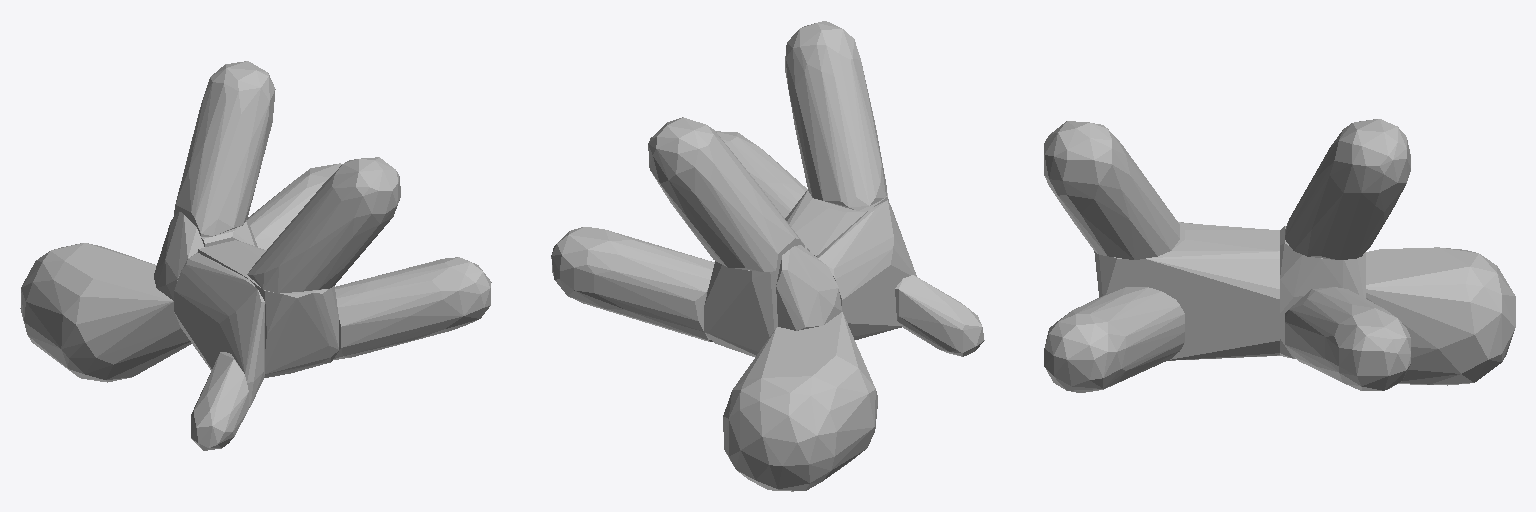
URDF robot description (root):
<robot name="root">
  <link name="link_thingiverse~dog_sculpture_3746999_convex_piece_0">
    <inertial>
      <origin rpy="0 0 0" xyz="0 0 0"/>
      <mass value="1.22E-01"/>
      <inertia ixx="7.17E-04" ixy="-1.04E-04" ixz="8.27E-05" iyy="2.95E-04" iyz="-3.34E-04" izz="4.93E-04"/>
    </inertial>
    <visual>
      <origin rpy="0 0 0" xyz="0 0 0"/>
      <geometry>
        <mesh filename="thingiverse~dog_sculpture_3746999_convex_piece_0.obj" scale="1.0000E+00 1.0000E+00 1.0000E+00"/>
      </geometry>
      <material name="">
        <color rgba="7.50E-01 7.50E-01 7.50E-01 1"/>
      </material>
    </visual>
    <collision>
      <origin rpy="0 0 0" xyz="0 0 0"/>
      <geometry>
        <mesh filename="thingiverse~dog_sculpture_3746999_convex_piece_0.obj" scale="1.0000E+00 1.0000E+00 1.0000E+00"/>
      </geometry>
    </collision>
  </link>
  <link name="link_thingiverse~dog_sculpture_3746999_convex_piece_1">
    <inertial>
      <origin rpy="0 0 0" xyz="0 0 0"/>
      <mass value="1.29E-01"/>
      <inertia ixx="4.81E-04" ixy="-3.56E-04" ixz="1.20E-05" iyy="3.01E-04" iyz="-8.96E-06" izz="7.64E-04"/>
    </inertial>
    <visual>
      <origin rpy="0 0 0" xyz="0 0 0"/>
      <geometry>
        <mesh filename="thingiverse~dog_sculpture_3746999_convex_piece_1.obj" scale="1.0000E+00 1.0000E+00 1.0000E+00"/>
      </geometry>
      <material name="">
        <color rgba="7.50E-01 7.50E-01 7.50E-01 1"/>
      </material>
    </visual>
    <collision>
      <origin rpy="0 0 0" xyz="0 0 0"/>
      <geometry>
        <mesh filename="thingiverse~dog_sculpture_3746999_convex_piece_1.obj" scale="1.0000E+00 1.0000E+00 1.0000E+00"/>
      </geometry>
    </collision>
  </link>
  <joint name="link_thingiverse~dog_sculpture_3746999_convex_piece_1_joint" type="fixed">
    <origin rpy="0 0 0" xyz="0 0 0"/>
    <parent link="link_thingiverse~dog_sculpture_3746999_convex_piece_0"/>
    <child link="link_thingiverse~dog_sculpture_3746999_convex_piece_1"/>
  </joint>
  <link name="link_thingiverse~dog_sculpture_3746999_convex_piece_2">
    <inertial>
      <origin rpy="0 0 0" xyz="0 0 0"/>
      <mass value="3.38E-01"/>
      <inertia ixx="1.05E-03" ixy="-5.20E-04" ixz="2.98E-04" iyy="6.97E-04" iyz="-3.95E-04" izz="1.22E-03"/>
    </inertial>
    <visual>
      <origin rpy="0 0 0" xyz="0 0 0"/>
      <geometry>
        <mesh filename="thingiverse~dog_sculpture_3746999_convex_piece_2.obj" scale="1.0000E+00 1.0000E+00 1.0000E+00"/>
      </geometry>
      <material name="">
        <color rgba="7.50E-01 7.50E-01 7.50E-01 1"/>
      </material>
    </visual>
    <collision>
      <origin rpy="0 0 0" xyz="0 0 0"/>
      <geometry>
        <mesh filename="thingiverse~dog_sculpture_3746999_convex_piece_2.obj" scale="1.0000E+00 1.0000E+00 1.0000E+00"/>
      </geometry>
    </collision>
  </link>
  <joint name="link_thingiverse~dog_sculpture_3746999_convex_piece_2_joint" type="fixed">
    <origin rpy="0 0 0" xyz="0 0 0"/>
    <parent link="link_thingiverse~dog_sculpture_3746999_convex_piece_1"/>
    <child link="link_thingiverse~dog_sculpture_3746999_convex_piece_2"/>
  </joint>
  <link name="link_thingiverse~dog_sculpture_3746999_convex_piece_3">
    <inertial>
      <origin rpy="0 0 0" xyz="0 0 0"/>
      <mass value="1.74E-02"/>
      <inertia ixx="4.71E-06" ixy="-3.39E-06" ixz="-1.62E-06" iyy="6.66E-06" iyz="1.31E-06" izz="8.35E-06"/>
    </inertial>
    <visual>
      <origin rpy="0 0 0" xyz="0 0 0"/>
      <geometry>
        <mesh filename="thingiverse~dog_sculpture_3746999_convex_piece_3.obj" scale="1.0000E+00 1.0000E+00 1.0000E+00"/>
      </geometry>
      <material name="">
        <color rgba="7.50E-01 7.50E-01 7.50E-01 1"/>
      </material>
    </visual>
    <collision>
      <origin rpy="0 0 0" xyz="0 0 0"/>
      <geometry>
        <mesh filename="thingiverse~dog_sculpture_3746999_convex_piece_3.obj" scale="1.0000E+00 1.0000E+00 1.0000E+00"/>
      </geometry>
    </collision>
  </link>
  <joint name="link_thingiverse~dog_sculpture_3746999_convex_piece_3_joint" type="fixed">
    <origin rpy="0 0 0" xyz="0 0 0"/>
    <parent link="link_thingiverse~dog_sculpture_3746999_convex_piece_2"/>
    <child link="link_thingiverse~dog_sculpture_3746999_convex_piece_3"/>
  </joint>
  <link name="link_thingiverse~dog_sculpture_3746999_convex_piece_4">
    <inertial>
      <origin rpy="0 0 0" xyz="0 0 0"/>
      <mass value="1.21E-01"/>
      <inertia ixx="3.56E-04" ixy="4.80E-05" ixz="8.60E-05" iyy="3.02E-04" iyz="1.47E-04" izz="1.27E-04"/>
    </inertial>
    <visual>
      <origin rpy="0 0 0" xyz="0 0 0"/>
      <geometry>
        <mesh filename="thingiverse~dog_sculpture_3746999_convex_piece_4.obj" scale="1.0000E+00 1.0000E+00 1.0000E+00"/>
      </geometry>
      <material name="">
        <color rgba="7.50E-01 7.50E-01 7.50E-01 1"/>
      </material>
    </visual>
    <collision>
      <origin rpy="0 0 0" xyz="0 0 0"/>
      <geometry>
        <mesh filename="thingiverse~dog_sculpture_3746999_convex_piece_4.obj" scale="1.0000E+00 1.0000E+00 1.0000E+00"/>
      </geometry>
    </collision>
  </link>
  <joint name="link_thingiverse~dog_sculpture_3746999_convex_piece_4_joint" type="fixed">
    <origin rpy="0 0 0" xyz="0 0 0"/>
    <parent link="link_thingiverse~dog_sculpture_3746999_convex_piece_3"/>
    <child link="link_thingiverse~dog_sculpture_3746999_convex_piece_4"/>
  </joint>
  <link name="link_thingiverse~dog_sculpture_3746999_convex_piece_5">
    <inertial>
      <origin rpy="0 0 0" xyz="0 0 0"/>
      <mass value="2.43E-02"/>
      <inertia ixx="9.28E-05" ixy="4.90E-05" ixz="2.49E-05" iyy="5.28E-05" iyz="3.68E-05" izz="1.07E-04"/>
    </inertial>
    <visual>
      <origin rpy="0 0 0" xyz="0 0 0"/>
      <geometry>
        <mesh filename="thingiverse~dog_sculpture_3746999_convex_piece_5.obj" scale="1.0000E+00 1.0000E+00 1.0000E+00"/>
      </geometry>
      <material name="">
        <color rgba="7.50E-01 7.50E-01 7.50E-01 1"/>
      </material>
    </visual>
    <collision>
      <origin rpy="0 0 0" xyz="0 0 0"/>
      <geometry>
        <mesh filename="thingiverse~dog_sculpture_3746999_convex_piece_5.obj" scale="1.0000E+00 1.0000E+00 1.0000E+00"/>
      </geometry>
    </collision>
  </link>
  <joint name="link_thingiverse~dog_sculpture_3746999_convex_piece_5_joint" type="fixed">
    <origin rpy="0 0 0" xyz="0 0 0"/>
    <parent link="link_thingiverse~dog_sculpture_3746999_convex_piece_4"/>
    <child link="link_thingiverse~dog_sculpture_3746999_convex_piece_5"/>
  </joint>
  <link name="link_thingiverse~dog_sculpture_3746999_convex_piece_6">
    <inertial>
      <origin rpy="0 0 0" xyz="0 0 0"/>
      <mass value="9.80E-02"/>
      <inertia ixx="4.11E-05" ixy="3.94E-06" ixz="-2.44E-07" iyy="2.07E-05" iyz="-6.44E-07" izz="3.42E-05"/>
    </inertial>
    <visual>
      <origin rpy="0 0 0" xyz="0 0 0"/>
      <geometry>
        <mesh filename="thingiverse~dog_sculpture_3746999_convex_piece_6.obj" scale="1.0000E+00 1.0000E+00 1.0000E+00"/>
      </geometry>
      <material name="">
        <color rgba="7.50E-01 7.50E-01 7.50E-01 1"/>
      </material>
    </visual>
    <collision>
      <origin rpy="0 0 0" xyz="0 0 0"/>
      <geometry>
        <mesh filename="thingiverse~dog_sculpture_3746999_convex_piece_6.obj" scale="1.0000E+00 1.0000E+00 1.0000E+00"/>
      </geometry>
    </collision>
  </link>
  <joint name="link_thingiverse~dog_sculpture_3746999_convex_piece_6_joint" type="fixed">
    <origin rpy="0 0 0" xyz="0 0 0"/>
    <parent link="link_thingiverse~dog_sculpture_3746999_convex_piece_5"/>
    <child link="link_thingiverse~dog_sculpture_3746999_convex_piece_6"/>
  </joint>
  <link name="link_thingiverse~dog_sculpture_3746999_convex_piece_7">
    <inertial>
      <origin rpy="0 0 0" xyz="0 0 0"/>
      <mass value="1.24E-01"/>
      <inertia ixx="1.01E-04" ixy="1.55E-04" ixz="1.58E-05" iyy="3.00E-04" iyz="7.54E-06" izz="3.83E-04"/>
    </inertial>
    <visual>
      <origin rpy="0 0 0" xyz="0 0 0"/>
      <geometry>
        <mesh filename="thingiverse~dog_sculpture_3746999_convex_piece_7.obj" scale="1.0000E+00 1.0000E+00 1.0000E+00"/>
      </geometry>
      <material name="">
        <color rgba="7.50E-01 7.50E-01 7.50E-01 1"/>
      </material>
    </visual>
    <collision>
      <origin rpy="0 0 0" xyz="0 0 0"/>
      <geometry>
        <mesh filename="thingiverse~dog_sculpture_3746999_convex_piece_7.obj" scale="1.0000E+00 1.0000E+00 1.0000E+00"/>
      </geometry>
    </collision>
  </link>
  <joint name="link_thingiverse~dog_sculpture_3746999_convex_piece_7_joint" type="fixed">
    <origin rpy="0 0 0" xyz="0 0 0"/>
    <parent link="link_thingiverse~dog_sculpture_3746999_convex_piece_6"/>
    <child link="link_thingiverse~dog_sculpture_3746999_convex_piece_7"/>
  </joint>
  <link name="link_thingiverse~dog_sculpture_3746999_convex_piece_8">
    <inertial>
      <origin rpy="0 0 0" xyz="0 0 0"/>
      <mass value="6.58E-02"/>
      <inertia ixx="8.17E-05" ixy="3.77E-05" ixz="9.38E-06" iyy="3.78E-05" iyz="1.45E-05" izz="9.71E-05"/>
    </inertial>
    <visual>
      <origin rpy="0 0 0" xyz="0 0 0"/>
      <geometry>
        <mesh filename="thingiverse~dog_sculpture_3746999_convex_piece_8.obj" scale="1.0000E+00 1.0000E+00 1.0000E+00"/>
      </geometry>
      <material name="">
        <color rgba="7.50E-01 7.50E-01 7.50E-01 1"/>
      </material>
    </visual>
    <collision>
      <origin rpy="0 0 0" xyz="0 0 0"/>
      <geometry>
        <mesh filename="thingiverse~dog_sculpture_3746999_convex_piece_8.obj" scale="1.0000E+00 1.0000E+00 1.0000E+00"/>
      </geometry>
    </collision>
  </link>
  <joint name="link_thingiverse~dog_sculpture_3746999_convex_piece_8_joint" type="fixed">
    <origin rpy="0 0 0" xyz="0 0 0"/>
    <parent link="link_thingiverse~dog_sculpture_3746999_convex_piece_7"/>
    <child link="link_thingiverse~dog_sculpture_3746999_convex_piece_8"/>
  </joint>
  <link name="link_thingiverse~dog_sculpture_3746999_convex_piece_9">
    <inertial>
      <origin rpy="0 0 0" xyz="0 0 0"/>
      <mass value="2.19E-01"/>
      <inertia ixx="2.95E-04" ixy="-3.88E-06" ixz="3.79E-07" iyy="4.81E-05" iyz="6.96E-06" izz="2.79E-04"/>
    </inertial>
    <visual>
      <origin rpy="0 0 0" xyz="0 0 0"/>
      <geometry>
        <mesh filename="thingiverse~dog_sculpture_3746999_convex_piece_9.obj" scale="1.0000E+00 1.0000E+00 1.0000E+00"/>
      </geometry>
      <material name="">
        <color rgba="7.50E-01 7.50E-01 7.50E-01 1"/>
      </material>
    </visual>
    <collision>
      <origin rpy="0 0 0" xyz="0 0 0"/>
      <geometry>
        <mesh filename="thingiverse~dog_sculpture_3746999_convex_piece_9.obj" scale="1.0000E+00 1.0000E+00 1.0000E+00"/>
      </geometry>
    </collision>
  </link>
  <joint name="link_thingiverse~dog_sculpture_3746999_convex_piece_9_joint" type="fixed">
    <origin rpy="0 0 0" xyz="0 0 0"/>
    <parent link="link_thingiverse~dog_sculpture_3746999_convex_piece_8"/>
    <child link="link_thingiverse~dog_sculpture_3746999_convex_piece_9"/>
  </joint>
</robot>

--- What the picture shows (computed from the rendered views, not written in the file) ---
Views: 3 orthographic renders of the robot side by side, from view 1: azimuth 30°, elevation 25°; view 2: azimuth 150°, elevation 25°; view 3: azimuth 270°, elevation 25°.
Model root with 10 links and 9 joints (9 fixed), rooted at link_thingiverse~dog_sculpture_3746999_convex_piece_0, posed every joint at zero.
Links seen in each view (by area): view 1: link_thingiverse~dog_sculpture_3746999_convex_piece_2, link_thingiverse~dog_sculpture_3746999_convex_piece_4, link_thingiverse~dog_sculpture_3746999_convex_piece_0, link_thingiverse~dog_sculpture_3746999_convex_piece_1, link_thingiverse~dog_sculpture_3746999_convex_piece_8, link_thingiverse~dog_sculpture_3746999_convex_piece_9, link_thingiverse~dog_sculpture_3746999_convex_piece_5, link_thingiverse~dog_sculpture_3746999_convex_piece_7, link_thingiverse~dog_sculpture_3746999_convex_piece_3, link_thingiverse~dog_sculpture_3746999_convex_piece_6; view 2: link_thingiverse~dog_sculpture_3746999_convex_piece_2, link_thingiverse~dog_sculpture_3746999_convex_piece_0, link_thingiverse~dog_sculpture_3746999_convex_piece_4, link_thingiverse~dog_sculpture_3746999_convex_piece_7, link_thingiverse~dog_sculpture_3746999_convex_piece_8, link_thingiverse~dog_sculpture_3746999_convex_piece_6, link_thingiverse~dog_sculpture_3746999_convex_piece_5, link_thingiverse~dog_sculpture_3746999_convex_piece_3, link_thingiverse~dog_sculpture_3746999_convex_piece_9, link_thingiverse~dog_sculpture_3746999_convex_piece_1; view 3: link_thingiverse~dog_sculpture_3746999_convex_piece_9, link_thingiverse~dog_sculpture_3746999_convex_piece_2, link_thingiverse~dog_sculpture_3746999_convex_piece_0, link_thingiverse~dog_sculpture_3746999_convex_piece_4, link_thingiverse~dog_sculpture_3746999_convex_piece_1, link_thingiverse~dog_sculpture_3746999_convex_piece_7, link_thingiverse~dog_sculpture_3746999_convex_piece_6.
Boxes of the visible links, <box> form: link_thingiverse~dog_sculpture_3746999_convex_piece_2: <box>20,243,191,382</box>; link_thingiverse~dog_sculpture_3746999_convex_piece_4: <box>174,61,275,236</box>; link_thingiverse~dog_sculpture_3746999_convex_piece_0: <box>247,157,400,293</box>; link_thingiverse~dog_sculpture_3746999_convex_piece_1: <box>333,257,491,359</box>; link_thingiverse~dog_sculpture_3746999_convex_piece_8: <box>174,253,264,407</box>; link_thingiverse~dog_sculpture_3746999_convex_piece_9: <box>198,240,338,377</box>; link_thingiverse~dog_sculpture_3746999_convex_piece_5: <box>191,352,248,450</box>; link_thingiverse~dog_sculpture_3746999_convex_piece_7: <box>247,163,341,249</box>; link_thingiverse~dog_sculpture_3746999_convex_piece_3: <box>154,211,204,300</box>; link_thingiverse~dog_sculpture_3746999_convex_piece_6: <box>173,217,257,246</box>; link_thingiverse~dog_sculpture_3746999_convex_piece_2: <box>723,312,877,491</box>; link_thingiverse~dog_sculpture_3746999_convex_piece_0: <box>785,21,886,210</box>; link_thingiverse~dog_sculpture_3746999_convex_piece_4: <box>648,117,804,271</box>; link_thingiverse~dog_sculpture_3746999_convex_piece_7: <box>551,227,714,341</box>; link_thingiverse~dog_sculpture_3746999_convex_piece_8: <box>818,200,916,339</box>; link_thingiverse~dog_sculpture_3746999_convex_piece_6: <box>704,248,809,356</box>; link_thingiverse~dog_sculpture_3746999_convex_piece_5: <box>895,275,984,356</box>; link_thingiverse~dog_sculpture_3746999_convex_piece_3: <box>776,245,841,330</box>; link_thingiverse~dog_sculpture_3746999_convex_piece_9: <box>785,190,888,257</box>; link_thingiverse~dog_sculpture_3746999_convex_piece_1: <box>716,131,807,217</box>; link_thingiverse~dog_sculpture_3746999_convex_piece_9: <box>1094,223,1279,360</box>; link_thingiverse~dog_sculpture_3746999_convex_piece_2: <box>1366,247,1515,385</box>; link_thingiverse~dog_sculpture_3746999_convex_piece_0: <box>1044,121,1179,259</box>; link_thingiverse~dog_sculpture_3746999_convex_piece_4: <box>1285,119,1410,259</box>; link_thingiverse~dog_sculpture_3746999_convex_piece_1: <box>1044,287,1184,392</box>; link_thingiverse~dog_sculpture_3746999_convex_piece_7: <box>1285,287,1410,390</box>; link_thingiverse~dog_sculpture_3746999_convex_piece_6: <box>1280,226,1365,358</box>.
Bounding box of the posed robot: 0.1383 × 0.1654 × 0.1256 m (x, y, z).
10 mesh visuals loaded from 10 distinct referenced files (10 OBJ).
